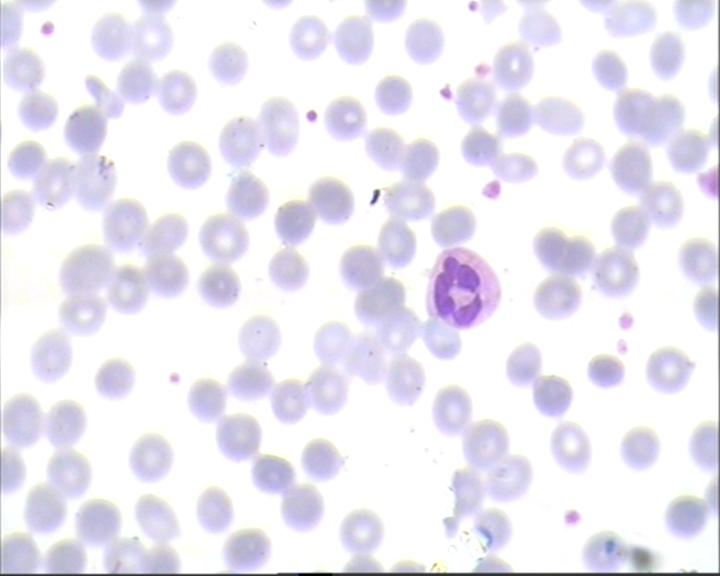neut: (421, 242, 501, 334)
